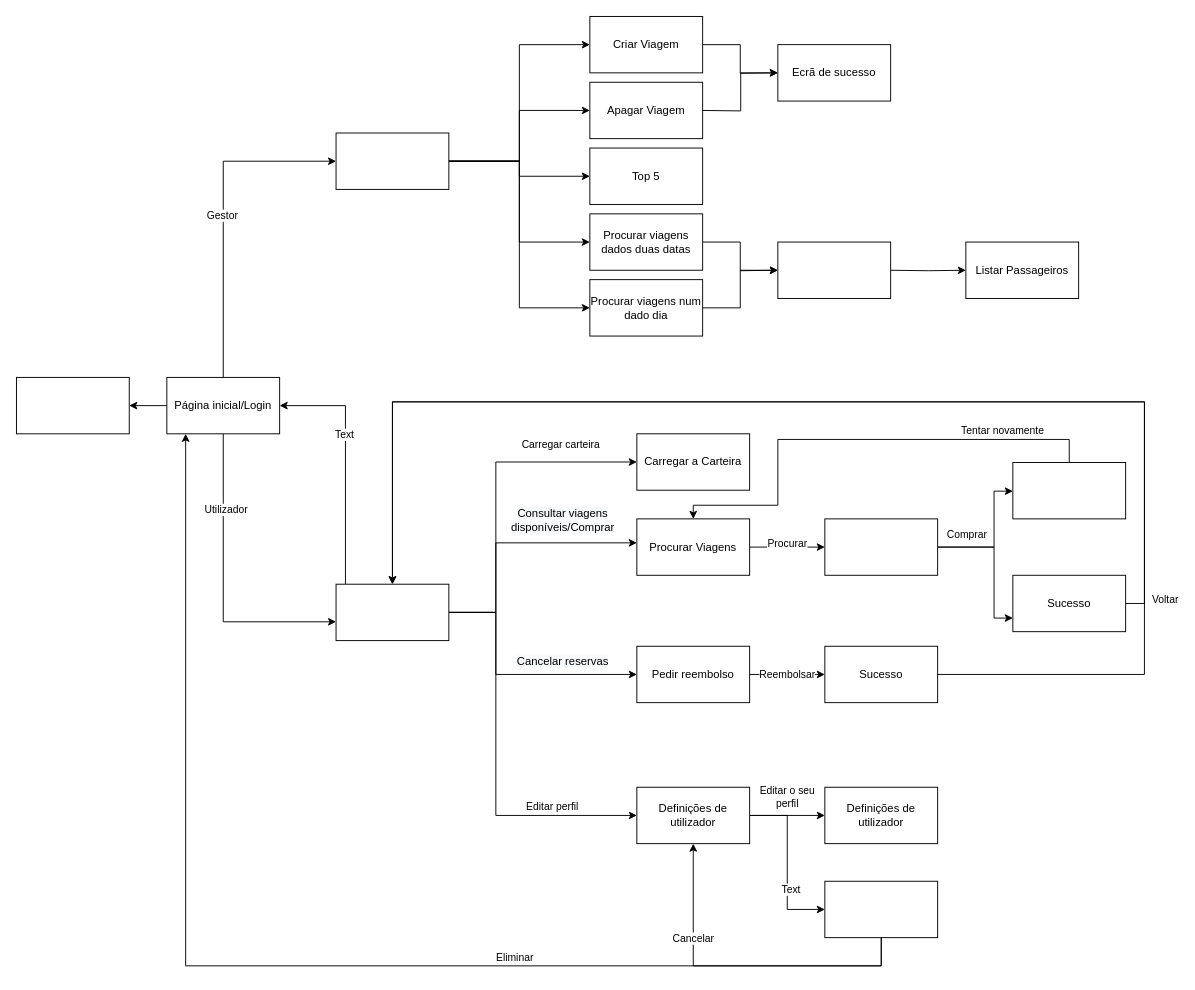
The diagram is 1195 pixels wide and 990 high, and some of its shapes have lost their labels. Each missing label, with the centre of its shape:
"Criar conta nova" belongs at point 72,405.
"Lista de viagens" belongs at point 834,269.
"Menu Cliente" belongs at point 392,612.
"Menu Company Manager" belongs at point 392,160.
"Sem sucesso" belongs at point 1069,490.
"Te, a certeza que deseja eliminar a sua conta?" belongs at point 881,909.
"Viagens" belongs at point 881,546.
